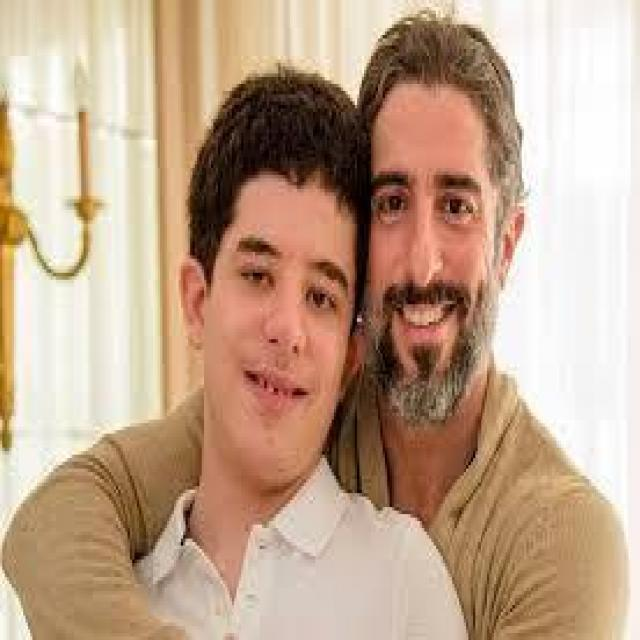person: (311, 4, 633, 636), (126, 63, 468, 636)
